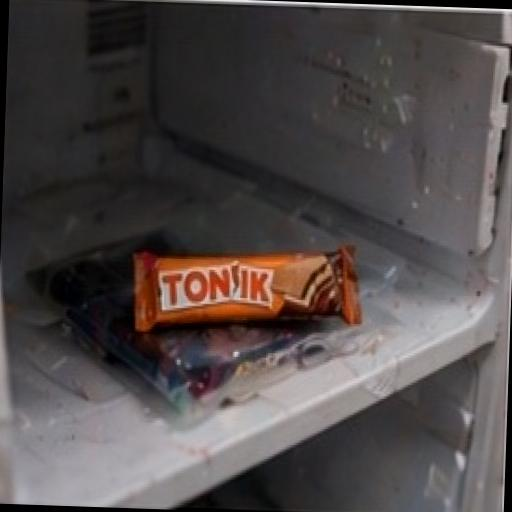tonik: (80, 134, 418, 422)
